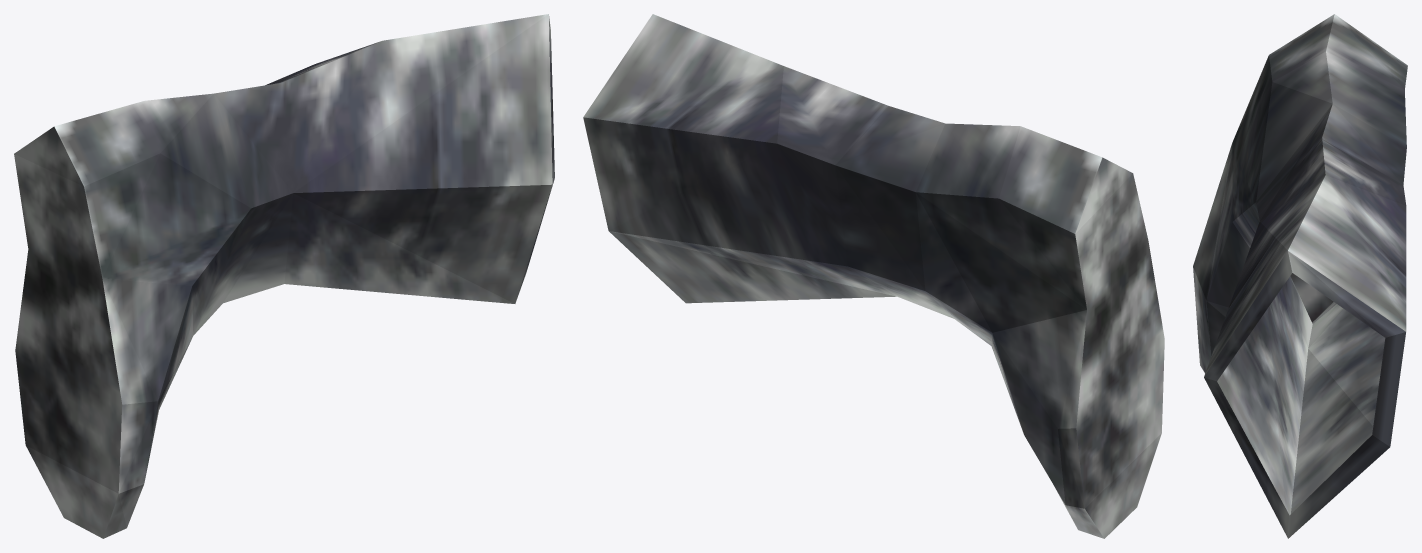
File: zhanchang_fuben_191_xiezi_01_02.obj
3 renders of one model, left to right at view 1: azimuth 30°, elevation 25°; view 2: azimuth 150°, elevation 25°; view 3: azimuth 270°, elevation 25°, orthographic. The views are drawn at different scales.
Visible parts, largest first — view 1: zhanchang_fuben_191_xiezi_01_02; view 2: zhanchang_fuben_191_xiezi_01_02; view 3: zhanchang_fuben_191_xiezi_01_02.
Boxes of the visible parts, left/top/right/bottom form: zhanchang_fuben_191_xiezi_01_02: left=14, top=14, right=554, bottom=538; zhanchang_fuben_191_xiezi_01_02: left=583, top=14, right=1164, bottom=538; zhanchang_fuben_191_xiezi_01_02: left=1193, top=14, right=1407, bottom=538.
Bounding box in the file's own units: 17.6 × 13.55 × 6.07.
1 material, 1 textured.
